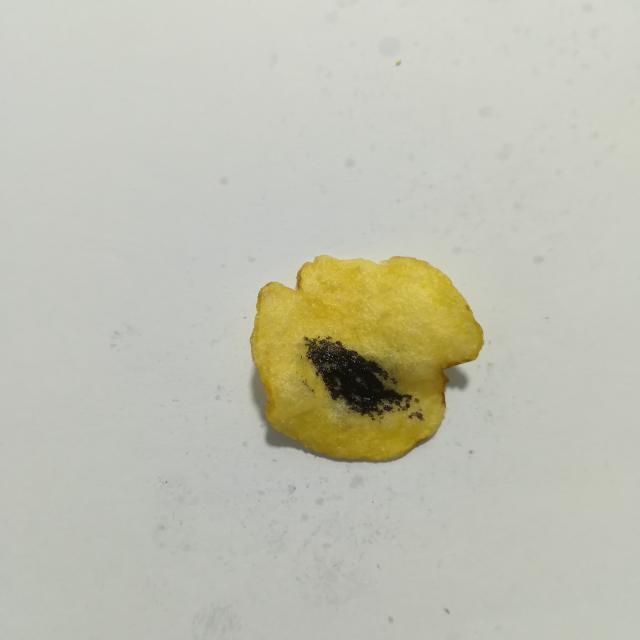chip: (250, 255, 483, 460)
damaged: (304, 337, 412, 415), (408, 411, 424, 421), (414, 412, 422, 420), (414, 397, 419, 403)
